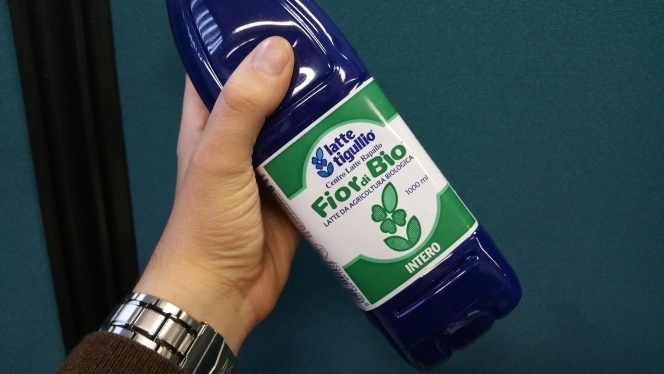bottle: (161, 2, 524, 372)
